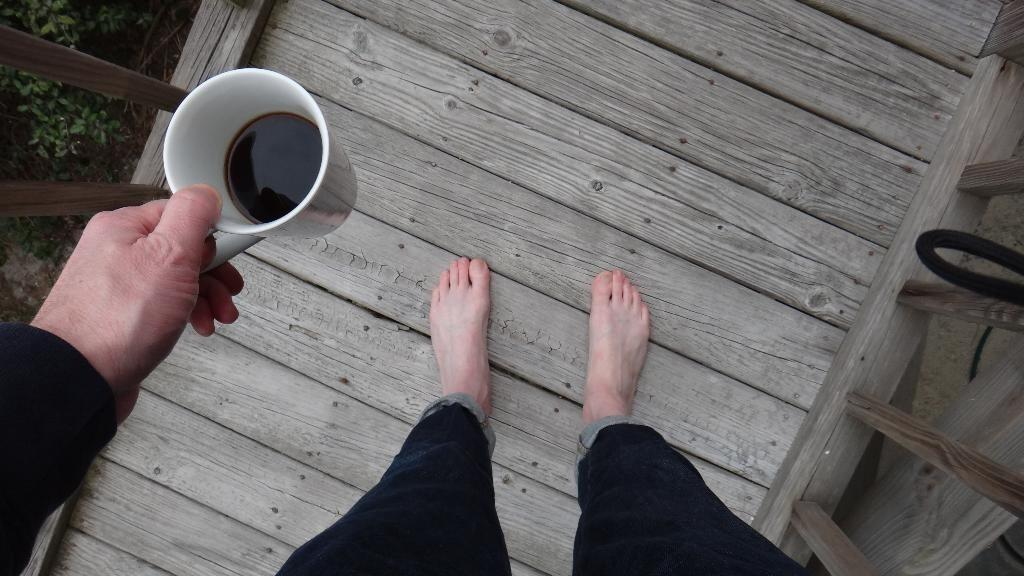cup-handle: (162, 67, 361, 269)
